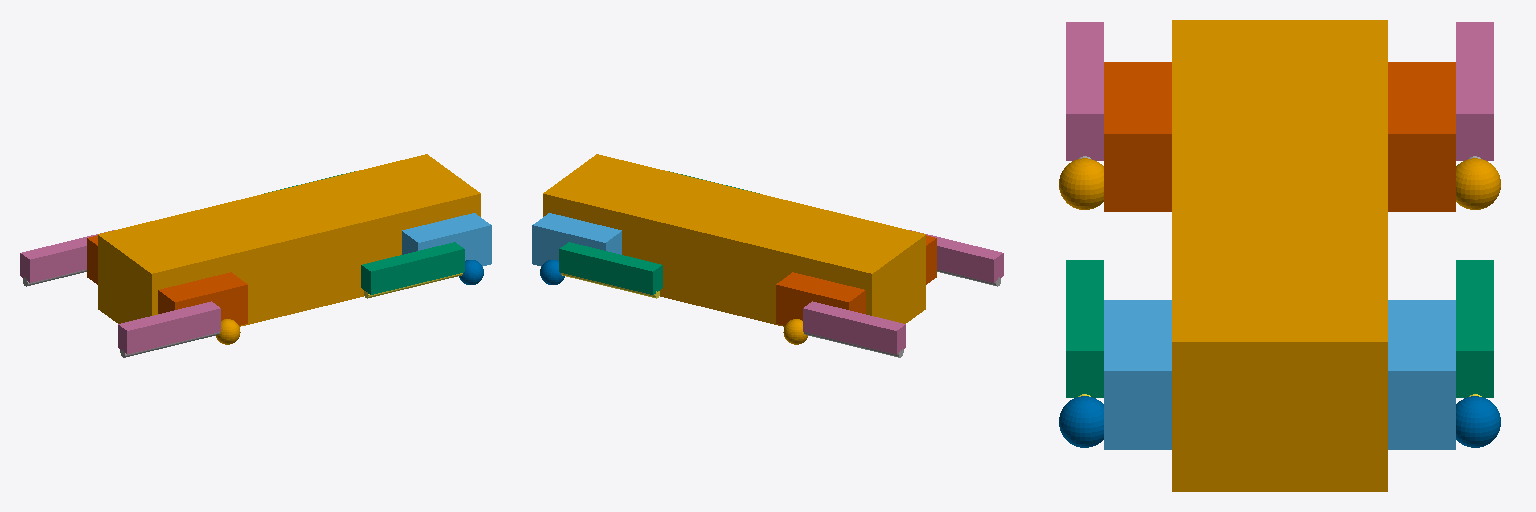
--- What the picture shows (computed from the rendered views, not written in the file) ---
The picture shows the robot from 3 angles, left to right: view 1: azimuth 30°, elevation 25°; view 2: azimuth 150°, elevation 25°; view 3: azimuth 270°, elevation 25°; orthographic projection.
Model vision60 with 17 links and 16 joints (12 revolute, 4 fixed), rooted at body, posed all joints at 0.
Visible links, largest first — view 1: body, upper2, upper3, hip2, hip3, upper1; view 2: body, upper0, upper1, hip0, hip1, upper3; view 3: body, hip0, hip1, hip2, hip3, upper1, upper3, upper0, upper2, toe1, toe3, toe0 (+1 smaller).
Link boxes in pixels (x1=…): body: x1=98, y1=154, x2=480, y2=326; upper2: x1=361, y1=242, x2=464, y2=294; upper3: x1=118, y1=301, x2=220, y2=354; hip2: x1=402, y1=213, x2=491, y2=266; hip3: x1=158, y1=272, x2=247, y2=325; upper1: x1=20, y1=230, x2=113, y2=282; body: x1=543, y1=154, x2=925, y2=326; upper0: x1=559, y1=242, x2=662, y2=294; upper1: x1=803, y1=301, x2=905, y2=354; hip0: x1=532, y1=213, x2=621, y2=266; hip1: x1=776, y1=272, x2=865, y2=325; upper3: x1=910, y1=230, x2=1003, y2=282; body: x1=1172, y1=20, x2=1387, y2=491; hip0: x1=1388, y1=300, x2=1455, y2=449; hip1: x1=1388, y1=62, x2=1455, y2=211; hip2: x1=1104, y1=300, x2=1171, y2=449; hip3: x1=1104, y1=62, x2=1171, y2=211; upper1: x1=1456, y1=22, x2=1493, y2=160; upper3: x1=1066, y1=22, x2=1103, y2=160; upper0: x1=1456, y1=260, x2=1493, y2=397; upper2: x1=1066, y1=260, x2=1103, y2=397; toe1: x1=1456, y1=158, x2=1500, y2=209; toe3: x1=1059, y1=158, x2=1103, y2=209; toe0: x1=1456, y1=396, x2=1500, y2=447.
Size in the robot's own frame: 1.01 by 0.511 by 0.19 metres.
Geometry: primitives only (box / cylinder / sphere), no mesh files.

URDF robot description (vision60):
<?xml version="1.0" ?>
<!-- =================================================================================== -->
<!-- |    This document was autogenerated by xacro from vision_60.urdf.xacro           | -->
<!-- |    EDITING THIS FILE BY HAND IS NOT RECOMMENDED                                 | -->
<!-- =================================================================================== -->
<!-- 
MIT License (modified)
Copyright (c) 2018 Ghost Robotics
Authors:
Avik De <[email redacted]>
Tom Jacobs <[email redacted]>
Vasileios Vasilopoulos <[email redacted]>
Permission is hereby granted, free of charge, to any person obtaining a copy
of this **file** (the "Software"), to deal
in the Software without restriction, including without limitation the rights
to use, copy, modify, merge, publish, distribute, sublicense, and/or sell
copies of the Software, and to permit persons to whom the Software is
furnished to do so, subject to the following conditions:
The above copyright notice and this permission notice shall be included in all
copies or substantial portions of the Software.
THE SOFTWARE IS PROVIDED "AS IS", WITHOUT WARRANTY OF ANY KIND, EXPRESS OR
IMPLIED, INCLUDING BUT NOT LIMITED TO THE WARRANTIES OF MERCHANTABILITY,
FITNESS FOR A PARTICULAR PURPOSE AND NONINFRINGEMENT. IN NO EVENT SHALL THE
AUTHORS OR COPYRIGHT HOLDERS BE LIABLE FOR ANY CLAIM, DAMAGES OR OTHER
LIABILITY, WHETHER IN AN ACTION OF CONTRACT, TORT OR OTHERWISE, ARISING FROM,
OUT OF OR IN CONNECTION WITH THE SOFTWARE OR THE USE OR OTHER DEALINGS IN THE
SOFTWARE. 
-->
<robot name="vision60">
  <!-- Body -->
  <link name="body">
    <visual>
      <origin rpy="0 0 0" xyz="0 0 0"/>
      <geometry>
        <box size="0.88 0.25 0.19"/>
      </geometry>
    </visual>
    <inertial>
      <mass value="12"/>
      <!-- Uniform box -->
      <inertia ixx="0.0986" ixy="0" ixz="0" iyy="0.8105" iyz="0" izz="0.8369"/>
    </inertial>
    <!-- Just copy geometry for collision -->
    <collision>
      <geometry>
        <box size="0.05 0.25 0.19"/>
      </geometry>
    </collision>
  </link>
  <gazebo reference="body">
    <material>Gazebo/BlackTransparent</material>
  </gazebo>
  <!-- red new legs -->
  <!-- TODO: clean this, it should be part of main leg macro -->
  <!-- Hip motor -->
  <link name="hip0">
    <visual>
      <origin rpy="1.5707963267948966 0 0" xyz="0.0 -0.03900000000000001 0"/>
      <geometry>
        <box size="0.195 0.1 0.17"/>
      </geometry>
    </visual>
    <collision>
      <origin rpy="1.5707963267948966 0 0" xyz="0.0 -0.03900000000000001 0"/>
      <geometry>
        <box size="0.195 0.1 0.17"/>
      </geometry>
    </collision>
    <inertial>
      <mass value="2.75"/>
      <inertia ixx="0.00891458" ixy="0" ixz="0" iyy="0.0100573" iyz="0" izz="0.01533698"/>
    </inertial>
  </link>
  <gazebo reference="hip0">
    <material>Gazebo/Red</material>
  </gazebo>
  <!-- Abduction joint. Joint names are: 8 9 10 11 -->
  <joint name="8" type="revolute">
    <parent link="body"/>
    <child link="hip0"/>
    <axis xyz="1 0 0"/>
    <origin xyz="0.325 0.1575 0"/>
    <limit effort="375" lower="-0.43" upper="0.43" velocity="8.6"/>
    <dynamics damping="0.0" friction="0.0"/>
  </joint>
  <!-- Transmission elements required for Gazebo -->
  <transmission name="transmission_8">
    <type>transmission_interface/SimpleTransmission</type>
    <joint name="8">
      <hardwareInterface>hardware_interface/EffortJointInterface</hardwareInterface>
    </joint>
    <actuator name="motor_8">
      <hardwareInterface>EffortJointInterface</hardwareInterface>
      <mechanicalReduction>1</mechanicalReduction>
    </actuator>
  </transmission>
  <!-- Upper leg -->
  <link name="upper0">
    <visual>
      <origin rpy="0 0 0" xyz="-0.125 0.0 0"/>
      <geometry>
        <box size="0.25 0.044 0.06"/>
      </geometry>
    </visual>
    <collision>
      <origin rpy="0 0 0" xyz="-0.125 0 0"/>
      <geometry>
        <box size="0.25 0.044 0.06"/>
      </geometry>
    </collision>
    <inertial>
      <mass value="0.625"/>
      <inertia ixx="0.0003125" ixy="0" ixz="0" iyy="0.0040625" iyz="0" izz="0.0040625"/>
    </inertial>
  </link>
  <gazebo reference="upper0">
    <material>Gazebo/Blue</material>
  </gazebo>
  <!-- Hip joint. (Motor to upper leg). Joint names are: 0 2 4 6 -->
  <joint name="0" type="revolute">
    <parent link="hip0"/>
    <child link="upper0"/>
    <axis xyz="0 -1 0"/>
    <origin xyz="0 0.068 0"/>
    <!--  rpy="0 -0.3 0" -->
    <limit effort="87.5" lower="-3.141592653589793" upper="3.141592653589793" velocity="30"/>
    <dynamics damping="0.0" friction="0.0"/>
  </joint>
  <!-- Transmission elements required for Gazebo -->
  <transmission name="transmission_0">
    <type>transmission_interface/SimpleTransmission</type>
    <joint name="0">
      <hardwareInterface>hardware_interface/EffortJointInterface</hardwareInterface>
    </joint>
    <actuator name="motor_0">
      <hardwareInterface>EffortJointInterface</hardwareInterface>
      <mechanicalReduction>1</mechanicalReduction>
    </actuator>
  </transmission>
  <!-- Lower leg -->
  <link name="lower0">
    <visual>
      <origin rpy="0 1.5707963267948966 0" xyz="0.14 0 -0.0355"/>
      <geometry>
        <cylinder length="0.28" radius="0.011"/>
      </geometry>
    </visual>
    <collision>
      <origin rpy="0 1.5707963267948966 0" xyz="0.14 0 -0.0355"/>
      <geometry>
        <cylinder length="0.28" radius="0.011"/>
      </geometry>
    </collision>
    <inertial>
      <mass value="0.2"/>
      <inertia ixx="0.00131075" ixy="0" ixz="0" iyy="0.00131075" iyz="0" izz="0.0001"/>
    </inertial>
  </link>
  <gazebo reference="lower0">
    <material>Gazebo/Black</material>
  </gazebo>
  <!-- Knee joint. Joint names are: 1 3 5 7 -->
  <joint name="1" type="revolute">
    <parent link="upper0"/>
    <child link="lower0"/>
    <axis xyz="0 1 0"/>
    <origin xyz="-0.25 0 0"/>
    <!--rpy="0 0.5 0"-->
    <limit effort="87.5" lower="0" upper="3.141592653589793" velocity="30"/>
    <dynamics damping="0.0" friction="0.0"/>
  </joint>
  <!-- Transmission elements required for Gazebo -->
  <transmission name="transmission_1">
    <type>transmission_interface/SimpleTransmission</type>
    <joint name="1">
      <hardwareInterface>hardware_interface/EffortJointInterface</hardwareInterface>
    </joint>
    <actuator name="motor_1">
      <hardwareInterface>EffortJointInterface</hardwareInterface>
      <mechanicalReduction>1</mechanicalReduction>
    </actuator>
  </transmission>
  <!-- Toe -->
  <link name="toe0">
    <visual>
      <origin rpy="0 0 0" xyz="0 0 0"/>
      <geometry>
        <sphere radius="0.03"/>
      </geometry>
    </visual>
    <collision>
      <origin rpy="0 0 0" xyz="0 0 0"/>
      <geometry>
        <sphere radius="0.03"/>
      </geometry>
    </collision>
    <inertial>
      <mass value="0.15"/>
      <inertia ixx="0.000025" ixy="0" ixz="0" iyy="0.000025" iyz="0" izz="0.000025"/>
    </inertial>
  </link>
  <gazebo reference="toe0">
    <material>Gazebo/DarkGray</material>
    <collision>
      <surface>
        <bounce>
          <restitution_coefficient>0</restitution_coefficient>
          <threshold>1e+06</threshold>
        </bounce>
        <friction>
          <torsional>
            <coefficient>0.3</coefficient>
          </torsional>
          <ode>
            <mu>20.0</mu>
            <mu2>10.0</mu2>
          </ode>
          <bullet>
            <rolling_friction>0.3</rolling_friction>
            <friction2>10.0</friction2>
          </bullet>
        </friction>
        <contact>
          <bullet>
            <kp>30000.0</kp>
            <kd>1000.0</kd>
          </bullet>
          <ode>
            <kp>30000.0</kp>
            <kd>1000.0</kd>
          </ode>
        </contact>
      </surface>
    </collision>
  </gazebo>
  <joint name="jtoe0" type="fixed">
    <parent link="lower0"/>
    <child link="toe0"/>
    <origin xyz="0.28 0 -0.046099999999999995"/>
    <dynamics damping="0.0" friction="0.0"/>
  </joint>
  <!-- Hip motor -->
  <link name="hip1">
    <visual>
      <origin rpy="1.5707963267948966 0 0" xyz="0.0 -0.03900000000000001 0"/>
      <geometry>
        <box size="0.195 0.1 0.17"/>
      </geometry>
    </visual>
    <collision>
      <origin rpy="1.5707963267948966 0 0" xyz="0.0 -0.03900000000000001 0"/>
      <geometry>
        <box size="0.195 0.1 0.17"/>
      </geometry>
    </collision>
    <inertial>
      <mass value="2.75"/>
      <inertia ixx="0.00891458" ixy="0" ixz="0" iyy="0.0100573" iyz="0" izz="0.01533698"/>
    </inertial>
  </link>
  <gazebo reference="hip1">
    <material>Gazebo/Purple</material>
  </gazebo>
  <!-- Abduction joint. Joint names are: 8 9 10 11 -->
  <joint name="9" type="revolute">
    <parent link="body"/>
    <child link="hip1"/>
    <axis xyz="1 0 0"/>
    <origin xyz="-0.325 0.1575 0"/>
    <limit effort="375" lower="-0.43" upper="0.43" velocity="8.6"/>
    <dynamics damping="0.0" friction="0.0"/>
  </joint>
  <!-- Transmission elements required for Gazebo -->
  <transmission name="transmission_9">
    <type>transmission_interface/SimpleTransmission</type>
    <joint name="9">
      <hardwareInterface>hardware_interface/EffortJointInterface</hardwareInterface>
    </joint>
    <actuator name="motor_9">
      <hardwareInterface>EffortJointInterface</hardwareInterface>
      <mechanicalReduction>1</mechanicalReduction>
    </actuator>
  </transmission>
  <!-- Upper leg -->
  <link name="upper1">
    <visual>
      <origin rpy="0 0 0" xyz="-0.125 0.0 0"/>
      <geometry>
        <box size="0.25 0.044 0.06"/>
      </geometry>
    </visual>
    <collision>
      <origin rpy="0 0 0" xyz="-0.125 0 0"/>
      <geometry>
        <box size="0.25 0.044 0.06"/>
      </geometry>
    </collision>
    <inertial>
      <mass value="0.625"/>
      <inertia ixx="0.0003125" ixy="0" ixz="0" iyy="0.0040625" iyz="0" izz="0.0040625"/>
    </inertial>
  </link>
  <gazebo reference="upper1">
    <material>Gazebo/Blue</material>
  </gazebo>
  <!-- Hip joint. (Motor to upper leg). Joint names are: 0 2 4 6 -->
  <joint name="2" type="revolute">
    <parent link="hip1"/>
    <child link="upper1"/>
    <axis xyz="0 -1 0"/>
    <origin xyz="0 0.068 0"/>
    <!--  rpy="0 -0.3 0" -->
    <limit effort="87.5" lower="-3.141592653589793" upper="3.141592653589793" velocity="30"/>
    <dynamics damping="0.0" friction="0.0"/>
  </joint>
  <!-- Transmission elements required for Gazebo -->
  <transmission name="transmission_2">
    <type>transmission_interface/SimpleTransmission</type>
    <joint name="2">
      <hardwareInterface>hardware_interface/EffortJointInterface</hardwareInterface>
    </joint>
    <actuator name="motor_2">
      <hardwareInterface>EffortJointInterface</hardwareInterface>
      <mechanicalReduction>1</mechanicalReduction>
    </actuator>
  </transmission>
  <!-- Lower leg -->
  <link name="lower1">
    <visual>
      <origin rpy="0 1.5707963267948966 0" xyz="0.14 0 -0.0355"/>
      <geometry>
        <cylinder length="0.28" radius="0.011"/>
      </geometry>
    </visual>
    <collision>
      <origin rpy="0 1.5707963267948966 0" xyz="0.14 0 -0.0355"/>
      <geometry>
        <cylinder length="0.28" radius="0.011"/>
      </geometry>
    </collision>
    <inertial>
      <mass value="0.2"/>
      <inertia ixx="0.00131075" ixy="0" ixz="0" iyy="0.00131075" iyz="0" izz="0.0001"/>
    </inertial>
  </link>
  <gazebo reference="lower1">
    <material>Gazebo/Black</material>
  </gazebo>
  <!-- Knee joint. Joint names are: 1 3 5 7 -->
  <joint name="3" type="revolute">
    <parent link="upper1"/>
    <child link="lower1"/>
    <axis xyz="0 1 0"/>
    <origin xyz="-0.25 0 0"/>
    <!--rpy="0 0.5 0"-->
    <limit effort="87.5" lower="0" upper="3.141592653589793" velocity="30"/>
    <dynamics damping="0.0" friction="0.0"/>
  </joint>
  <!-- Transmission elements required for Gazebo -->
  <transmission name="transmission_3">
    <type>transmission_interface/SimpleTransmission</type>
    <joint name="3">
      <hardwareInterface>hardware_interface/EffortJointInterface</hardwareInterface>
    </joint>
    <actuator name="motor_3">
      <hardwareInterface>EffortJointInterface</hardwareInterface>
      <mechanicalReduction>1</mechanicalReduction>
    </actuator>
  </transmission>
  <!-- Toe -->
  <link name="toe1">
    <visual>
      <origin rpy="0 0 0" xyz="0 0 0"/>
      <geometry>
        <sphere radius="0.03"/>
      </geometry>
    </visual>
    <collision>
      <origin rpy="0 0 0" xyz="0 0 0"/>
      <geometry>
        <sphere radius="0.03"/>
      </geometry>
    </collision>
    <inertial>
      <mass value="0.15"/>
      <inertia ixx="0.000025" ixy="0" ixz="0" iyy="0.000025" iyz="0" izz="0.000025"/>
    </inertial>
  </link>
  <gazebo reference="toe1">
    <material>Gazebo/DarkGray</material>
    <collision>
      <surface>
        <bounce>
          <restitution_coefficient>0</restitution_coefficient>
          <threshold>1e+06</threshold>
        </bounce>
        <friction>
          <torsional>
            <coefficient>0.3</coefficient>
          </torsional>
          <ode>
            <mu>20.0</mu>
            <mu2>10.0</mu2>
          </ode>
          <bullet>
            <rolling_friction>0.3</rolling_friction>
            <friction2>10.0</friction2>
          </bullet>
        </friction>
        <contact>
          <bullet>
            <kp>30000.0</kp>
            <kd>1000.0</kd>
          </bullet>
          <ode>
            <kp>30000.0</kp>
            <kd>1000.0</kd>
          </ode>
        </contact>
      </surface>
    </collision>
  </gazebo>
  <joint name="jtoe1" type="fixed">
    <parent link="lower1"/>
    <child link="toe1"/>
    <origin xyz="0.28 0 -0.046099999999999995"/>
    <dynamics damping="0.0" friction="0.0"/>
  </joint>
  <!-- Hip motor -->
  <link name="hip2">
    <visual>
      <origin rpy="1.5707963267948966 0 0" xyz="0.0 0.03900000000000001 0"/>
      <geometry>
        <box size="0.195 0.1 0.17"/>
      </geometry>
    </visual>
    <collision>
      <origin rpy="1.5707963267948966 0 0" xyz="0.0 0.03900000000000001 0"/>
      <geometry>
        <box size="0.195 0.1 0.17"/>
      </geometry>
    </collision>
    <inertial>
      <mass value="2.75"/>
      <inertia ixx="0.00891458" ixy="0" ixz="0" iyy="0.0100573" iyz="0" izz="0.01533698"/>
    </inertial>
  </link>
  <gazebo reference="hip2">
    <material>Gazebo/Red</material>
  </gazebo>
  <!-- Abduction joint. Joint names are: 8 9 10 11 -->
  <joint name="10" type="revolute">
    <parent link="body"/>
    <child link="hip2"/>
    <axis xyz="1 0 0"/>
    <origin xyz="0.325 -0.1575 0"/>
    <limit effort="375" lower="-0.43" upper="0.43" velocity="8.6"/>
    <dynamics damping="0.0" friction="0.0"/>
  </joint>
  <!-- Transmission elements required for Gazebo -->
  <transmission name="transmission_10">
    <type>transmission_interface/SimpleTransmission</type>
    <joint name="10">
      <hardwareInterface>hardware_interface/EffortJointInterface</hardwareInterface>
    </joint>
    <actuator name="motor_10">
      <hardwareInterface>EffortJointInterface</hardwareInterface>
      <mechanicalReduction>1</mechanicalReduction>
    </actuator>
  </transmission>
  <!-- Upper leg -->
  <link name="upper2">
    <visual>
      <origin rpy="0 0 0" xyz="-0.125 -0.0 0"/>
      <geometry>
        <box size="0.25 0.044 0.06"/>
      </geometry>
    </visual>
    <collision>
      <origin rpy="0 0 0" xyz="-0.125 0 0"/>
      <geometry>
        <box size="0.25 0.044 0.06"/>
      </geometry>
    </collision>
    <inertial>
      <mass value="0.625"/>
      <inertia ixx="0.0003125" ixy="0" ixz="0" iyy="0.0040625" iyz="0" izz="0.0040625"/>
    </inertial>
  </link>
  <gazebo reference="upper2">
    <material>Gazebo/Blue</material>
  </gazebo>
  <!-- Hip joint. (Motor to upper leg). Joint names are: 0 2 4 6 -->
  <joint name="4" type="revolute">
    <parent link="hip2"/>
    <child link="upper2"/>
    <axis xyz="0 -1 0"/>
    <origin xyz="0 -0.068 0"/>
    <!--  rpy="0 -0.3 0" -->
    <limit effort="87.5" lower="-3.141592653589793" upper="3.141592653589793" velocity="30"/>
    <dynamics damping="0.0" friction="0.0"/>
  </joint>
  <!-- Transmission elements required for Gazebo -->
  <transmission name="transmission_4">
    <type>transmission_interface/SimpleTransmission</type>
    <joint name="4">
      <hardwareInterface>hardware_interface/EffortJointInterface</hardwareInterface>
    </joint>
    <actuator name="motor_4">
      <hardwareInterface>EffortJointInterface</hardwareInterface>
      <mechanicalReduction>1</mechanicalReduction>
    </actuator>
  </transmission>
  <!-- Lower leg -->
  <link name="lower2">
    <visual>
      <origin rpy="0 1.5707963267948966 0" xyz="0.14 0 -0.0355"/>
      <geometry>
        <cylinder length="0.28" radius="0.011"/>
      </geometry>
    </visual>
    <collision>
      <origin rpy="0 1.5707963267948966 0" xyz="0.14 0 -0.0355"/>
      <geometry>
        <cylinder length="0.28" radius="0.011"/>
      </geometry>
    </collision>
    <inertial>
      <mass value="0.2"/>
      <inertia ixx="0.00131075" ixy="0" ixz="0" iyy="0.00131075" iyz="0" izz="0.0001"/>
    </inertial>
  </link>
  <gazebo reference="lower2">
    <material>Gazebo/Black</material>
  </gazebo>
  <!-- Knee joint. Joint names are: 1 3 5 7 -->
  <joint name="5" type="revolute">
    <parent link="upper2"/>
    <child link="lower2"/>
    <axis xyz="0 1 0"/>
    <origin xyz="-0.25 0 0"/>
    <!--rpy="0 0.5 0"-->
    <limit effort="87.5" lower="0" upper="3.141592653589793" velocity="30"/>
    <dynamics damping="0.0" friction="0.0"/>
  </joint>
  <!-- Transmission elements required for Gazebo -->
  <transmission name="transmission_5">
    <type>transmission_interface/SimpleTransmission</type>
    <joint name="5">
      <hardwareInterface>hardware_interface/EffortJointInterface</hardwareInterface>
    </joint>
    <actuator name="motor_5">
      <hardwareInterface>EffortJointInterface</hardwareInterface>
      <mechanicalReduction>1</mechanicalReduction>
    </actuator>
  </transmission>
  <!-- Toe -->
  <link name="toe2">
    <visual>
      <origin rpy="0 0 0" xyz="0 0 0"/>
      <geometry>
        <sphere radius="0.03"/>
      </geometry>
    </visual>
    <collision>
      <origin rpy="0 0 0" xyz="0 0 0"/>
      <geometry>
        <sphere radius="0.03"/>
      </geometry>
    </collision>
    <inertial>
      <mass value="0.15"/>
      <inertia ixx="0.000025" ixy="0" ixz="0" iyy="0.000025" iyz="0" izz="0.000025"/>
    </inertial>
  </link>
  <gazebo reference="toe2">
    <material>Gazebo/DarkGray</material>
    <collision>
      <surface>
        <bounce>
          <restitution_coefficient>0</restitution_coefficient>
          <threshold>1e+06</threshold>
        </bounce>
        <friction>
          <torsional>
            <coefficient>0.3</coefficient>
          </torsional>
          <ode>
            <mu>20.0</mu>
            <mu2>10.0</mu2>
          </ode>
          <bullet>
            <rolling_friction>0.3</rolling_friction>
            <friction2>10.0</friction2>
          </bullet>
        </friction>
        <contact>
          <bullet>
            <kp>30000.0</kp>
            <kd>1000.0</kd>
          </bullet>
          <ode>
            <kp>30000.0</kp>
            <kd>1000.0</kd>
          </ode>
        </contact>
      </surface>
    </collision>
  </gazebo>
  <joint name="jtoe2" type="fixed">
    <parent link="lower2"/>
    <child link="toe2"/>
    <origin xyz="0.28 0 -0.046099999999999995"/>
    <dynamics damping="0.0" friction="0.0"/>
  </joint>
  <!-- Hip motor -->
  <link name="hip3">
    <visual>
      <origin rpy="1.5707963267948966 0 0" xyz="0.0 0.03900000000000001 0"/>
      <geometry>
        <box size="0.195 0.1 0.17"/>
      </geometry>
    </visual>
    <collision>
      <origin rpy="1.5707963267948966 0 0" xyz="0.0 0.03900000000000001 0"/>
      <geometry>
        <box size="0.195 0.1 0.17"/>
      </geometry>
    </collision>
    <inertial>
      <mass value="2.75"/>
      <inertia ixx="0.00891458" ixy="0" ixz="0" iyy="0.0100573" iyz="0" izz="0.01533698"/>
    </inertial>
  </link>
  <gazebo reference="hip3">
    <material>Gazebo/Purple</material>
  </gazebo>
  <!-- Abduction joint. Joint names are: 8 9 10 11 -->
  <joint name="11" type="revolute">
    <parent link="body"/>
    <child link="hip3"/>
    <axis xyz="1 0 0"/>
    <origin xyz="-0.325 -0.1575 0"/>
    <limit effort="375" lower="-0.43" upper="0.43" velocity="8.6"/>
    <dynamics damping="0.0" friction="0.0"/>
  </joint>
  <!-- Transmission elements required for Gazebo -->
  <transmission name="transmission_11">
    <type>transmission_interface/SimpleTransmission</type>
    <joint name="11">
      <hardwareInterface>hardware_interface/EffortJointInterface</hardwareInterface>
    </joint>
    <actuator name="motor_11">
      <hardwareInterface>EffortJointInterface</hardwareInterface>
      <mechanicalReduction>1</mechanicalReduction>
    </actuator>
  </transmission>
  <!-- Upper leg -->
  <link name="upper3">
    <visual>
      <origin rpy="0 0 0" xyz="-0.125 -0.0 0"/>
      <geometry>
        <box size="0.25 0.044 0.06"/>
      </geometry>
    </visual>
    <collision>
      <origin rpy="0 0 0" xyz="-0.125 0 0"/>
      <geometry>
        <box size="0.25 0.044 0.06"/>
      </geometry>
    </collision>
    <inertial>
      <mass value="0.625"/>
      <inertia ixx="0.0003125" ixy="0" ixz="0" iyy="0.0040625" iyz="0" izz="0.0040625"/>
    </inertial>
  </link>
  <gazebo reference="upper3">
    <material>Gazebo/Blue</material>
  </gazebo>
  <!-- Hip joint. (Motor to upper leg). Joint names are: 0 2 4 6 -->
  <joint name="6" type="revolute">
    <parent link="hip3"/>
    <child link="upper3"/>
    <axis xyz="0 -1 0"/>
    <origin xyz="0 -0.068 0"/>
    <!--  rpy="0 -0.3 0" -->
    <limit effort="87.5" lower="-3.141592653589793" upper="3.141592653589793" velocity="30"/>
    <dynamics damping="0.0" friction="0.0"/>
  </joint>
  <!-- Transmission elements required for Gazebo -->
  <transmission name="transmission_6">
    <type>transmission_interface/SimpleTransmission</type>
    <joint name="6">
      <hardwareInterface>hardware_interface/EffortJointInterface</hardwareInterface>
    </joint>
    <actuator name="motor_6">
      <hardwareInterface>EffortJointInterface</hardwareInterface>
      <mechanicalReduction>1</mechanicalReduction>
    </actuator>
  </transmission>
  <!-- Lower leg -->
  <link name="lower3">
    <visual>
      <origin rpy="0 1.5707963267948966 0" xyz="0.14 0 -0.0355"/>
      <geometry>
        <cylinder length="0.28" radius="0.011"/>
      </geometry>
    </visual>
    <collision>
      <origin rpy="0 1.5707963267948966 0" xyz="0.14 0 -0.0355"/>
      <geometry>
        <cylinder length="0.28" radius="0.011"/>
      </geometry>
    </collision>
    <inertial>
      <mass value="0.2"/>
      <inertia ixx="0.00131075" ixy="0" ixz="0" iyy="0.00131075" iyz="0" izz="0.0001"/>
    </inertial>
  </link>
  <gazebo reference="lower3">
    <material>Gazebo/Black</material>
  </gazebo>
  <!-- Knee joint. Joint names are: 1 3 5 7 -->
  <joint name="7" type="revolute">
    <parent link="upper3"/>
    <child link="lower3"/>
    <axis xyz="0 1 0"/>
    <origin xyz="-0.25 0 0"/>
    <!--rpy="0 0.5 0"-->
    <limit effort="87.5" lower="0" upper="3.141592653589793" velocity="30"/>
    <dynamics damping="0.0" friction="0.0"/>
  </joint>
  <!-- Transmission elements required for Gazebo -->
  <transmission name="transmission_7">
    <type>transmission_interface/SimpleTransmission</type>
    <joint name="7">
      <hardwareInterface>hardware_interface/EffortJointInterface</hardwareInterface>
    </joint>
    <actuator name="motor_7">
      <hardwareInterface>EffortJointInterface</hardwareInterface>
      <mechanicalReduction>1</mechanicalReduction>
    </actuator>
  </transmission>
  <!-- Toe -->
  <link name="toe3">
    <visual>
      <origin rpy="0 0 0" xyz="0 0 0"/>
      <geometry>
        <sphere radius="0.03"/>
      </geometry>
    </visual>
    <collision>
      <origin rpy="0 0 0" xyz="0 0 0"/>
      <geometry>
        <sphere radius="0.03"/>
      </geometry>
    </collision>
    <inertial>
      <mass value="0.15"/>
      <inertia ixx="0.000025" ixy="0" ixz="0" iyy="0.000025" iyz="0" izz="0.000025"/>
    </inertial>
  </link>
  <gazebo reference="toe3">
    <material>Gazebo/DarkGray</material>
    <collision>
      <surface>
        <bounce>
          <restitution_coefficient>0</restitution_coefficient>
          <threshold>1e+06</threshold>
        </bounce>
        <friction>
          <torsional>
            <coefficient>0.3</coefficient>
          </torsional>
          <ode>
            <mu>20.0</mu>
            <mu2>10.0</mu2>
          </ode>
          <bullet>
            <rolling_friction>0.3</rolling_friction>
            <friction2>10.0</friction2>
          </bullet>
        </friction>
        <contact>
          <bullet>
            <kp>30000.0</kp>
            <kd>1000.0</kd>
          </bullet>
          <ode>
            <kp>30000.0</kp>
            <kd>1000.0</kd>
          </ode>
        </contact>
      </surface>
    </collision>
  </gazebo>
  <joint name="jtoe3" type="fixed">
    <parent link="lower3"/>
    <child link="toe3"/>
    <origin xyz="0.28 0 -0.046099999999999995"/>
    <dynamics damping="0.0" friction="0.0"/>
  </joint>
  <!-- Add ros_control plugin -->
  <gazebo>
    <plugin filename="libgazebo_ros_control.so" name="gazebo_ros_control">
      <robotNamespace>/vision60</robotNamespace>
    </plugin>
  </gazebo>
</robot>
